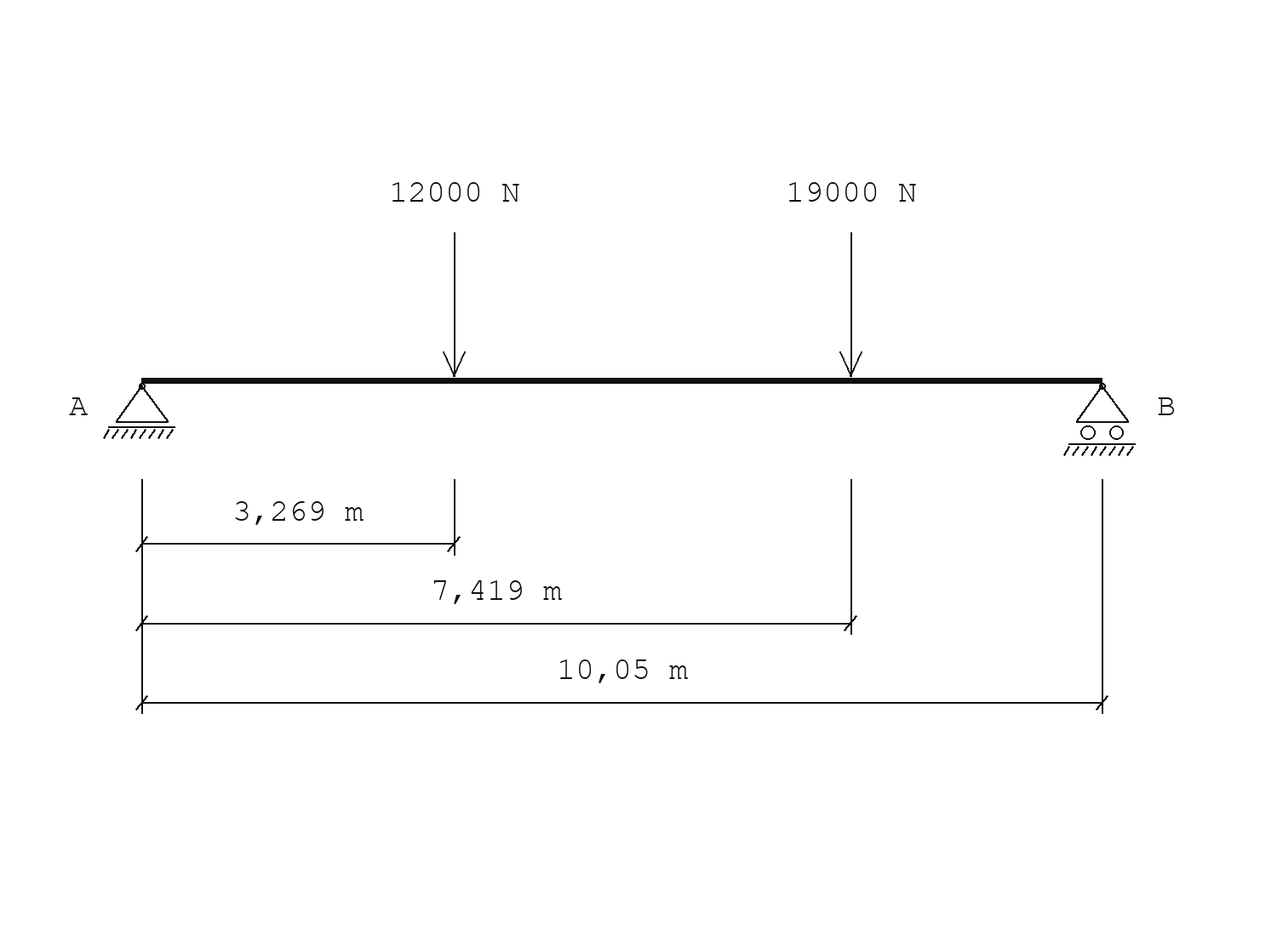pin_support: (103, 383, 175, 439)
point_load: (443, 232, 466, 377), (839, 232, 862, 377)
roller_support: (1063, 383, 1136, 456)
